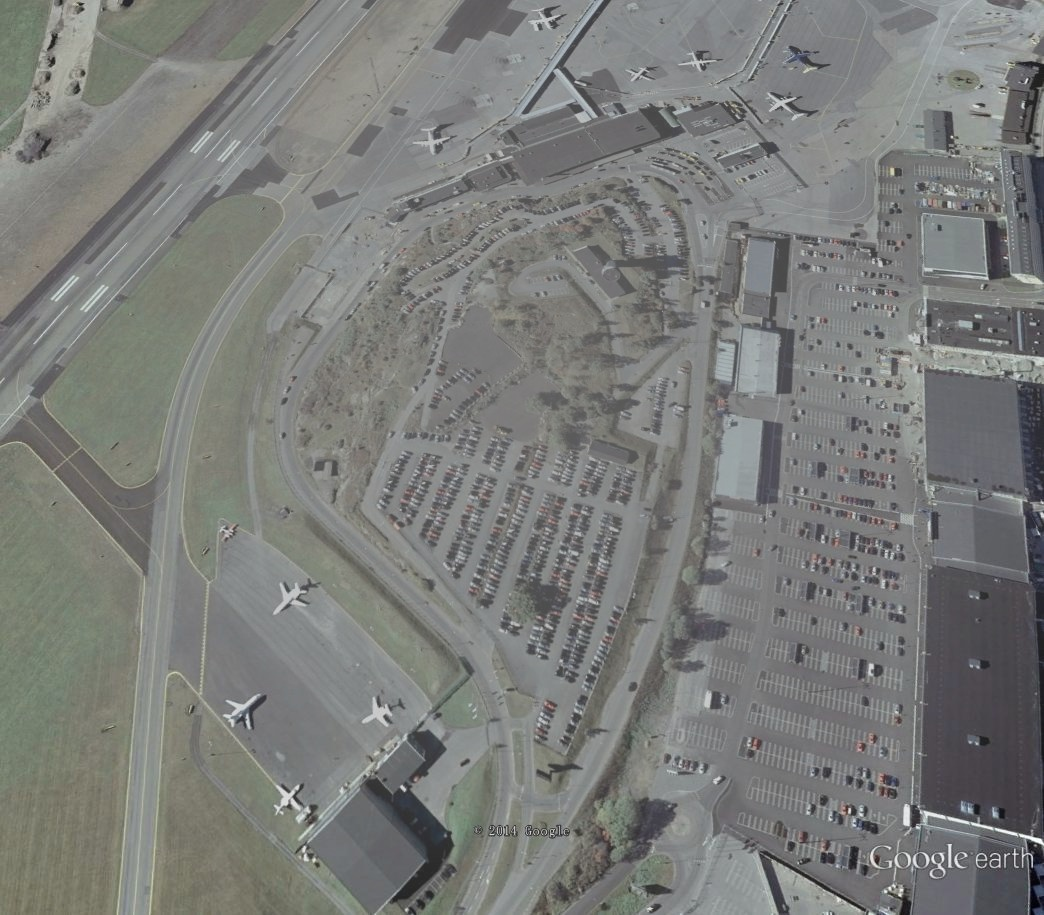aircraft: (223, 691, 268, 733), (765, 88, 813, 126), (408, 124, 457, 160), (271, 579, 315, 618), (268, 781, 309, 820), (360, 694, 399, 735), (781, 43, 823, 79), (528, 4, 564, 39), (678, 49, 721, 75), (625, 63, 657, 88), (214, 520, 243, 546)
